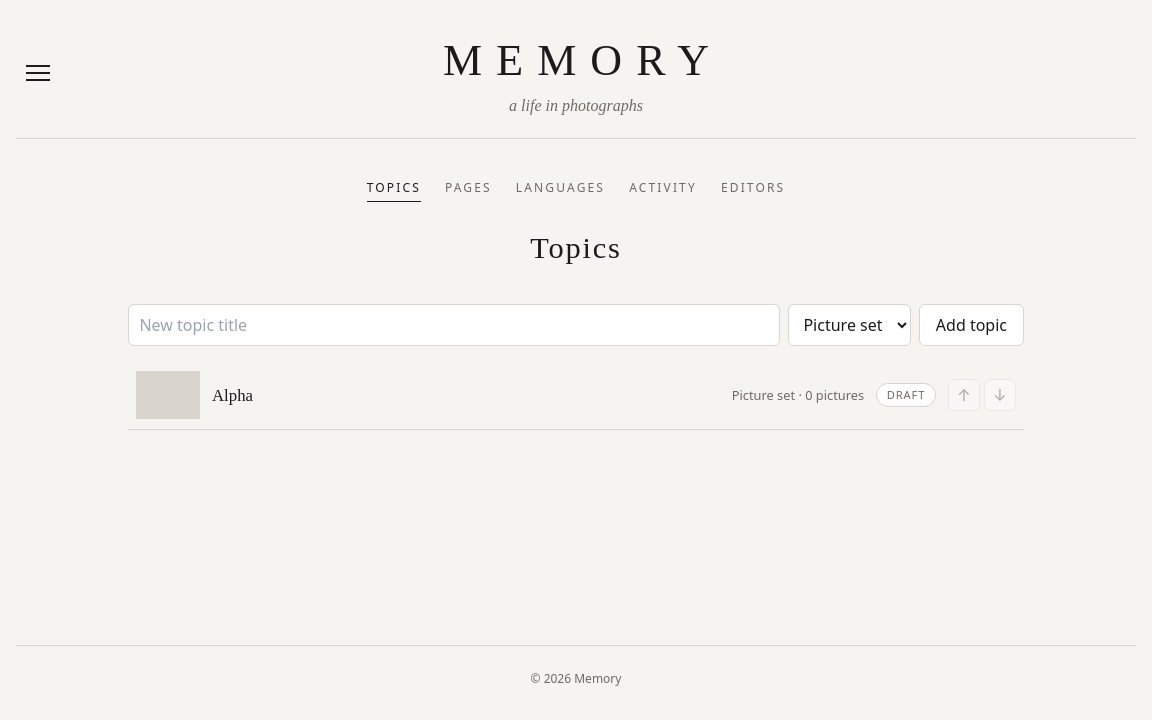
Test case: topics list › shows server errors
Expected: the navigation bar named "Back office" is shown, [367,179,785,202]
Click the button with aria-label "Alpha: draft — toggle" at (906, 395), box [876,383,936,407]
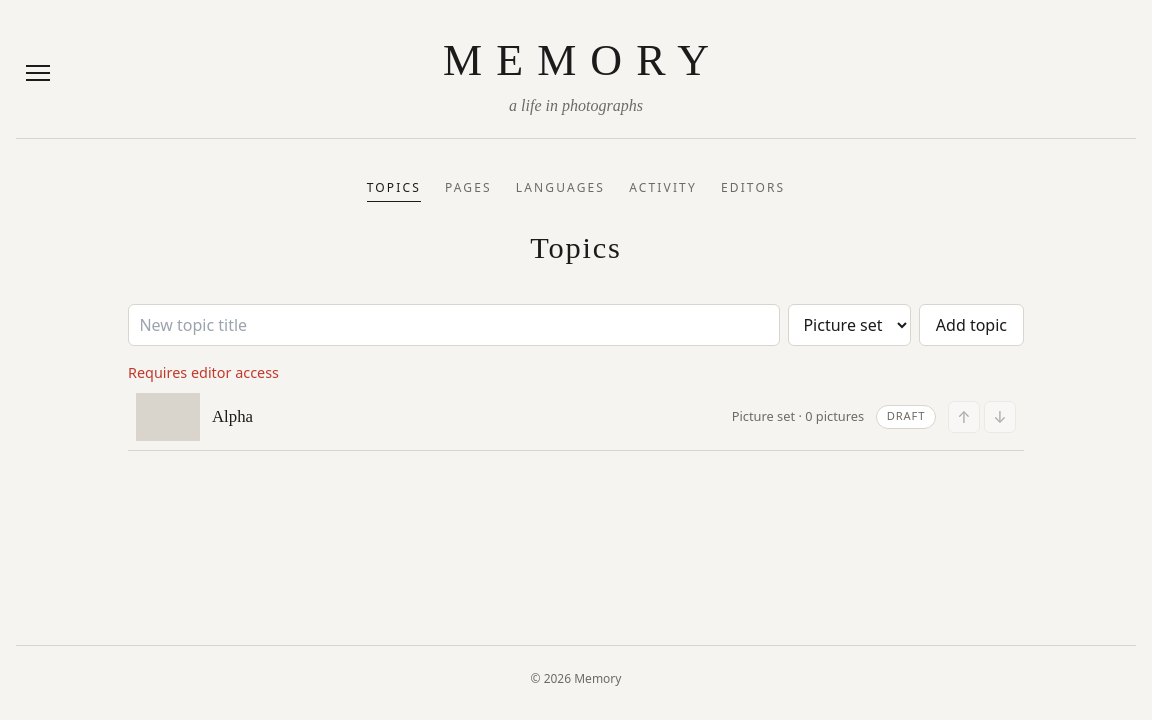
Expected: the message reads "Requires editor access", [128,363,279,382]
